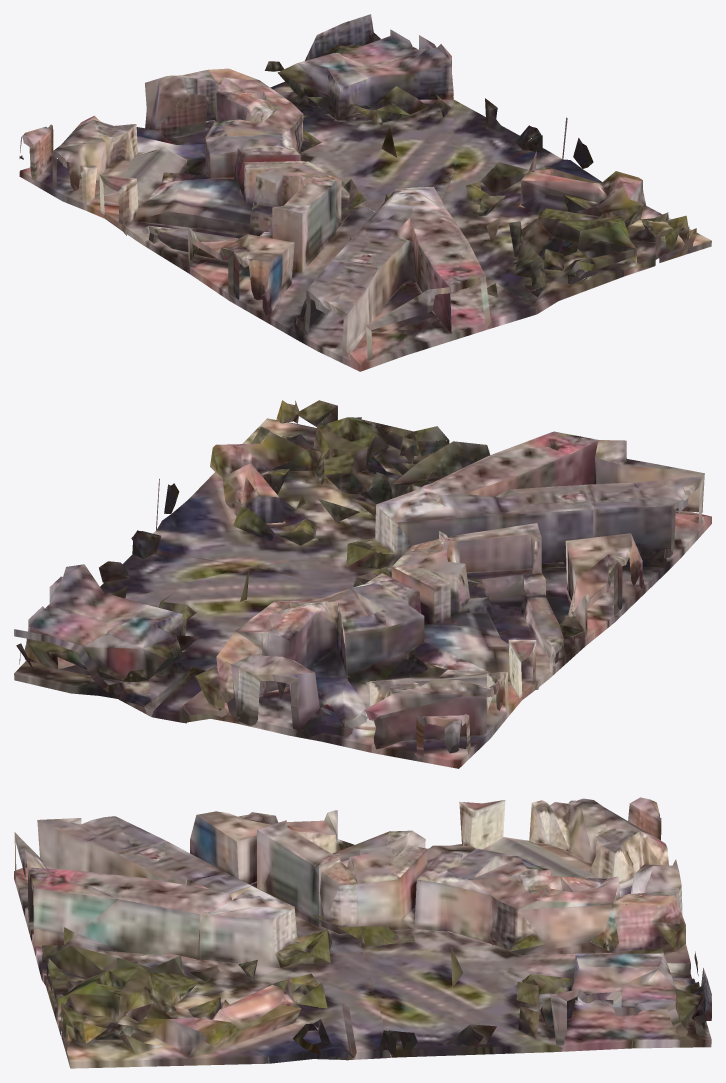
3 views of the same model, one above another, from view 1: azimuth 30°, elevation 25°; view 2: azimuth 150°, elevation 25°; view 3: azimuth 270°, elevation 25° (orthographic). The views are drawn at different scales.
Parts seen in each view (by area): view 1: Mesh_0; view 2: Mesh_0; view 3: Mesh_0.
Part boxes in pixels (left/top/right/bottom): Mesh_0: left=19, top=14, right=711, bottom=371; Mesh_0: left=14, top=400, right=711, bottom=768; Mesh_0: left=14, top=797, right=711, bottom=1068.
Size of the model in its own units: 270 by 47.03 by 330.
2 materials, 2 textured.
